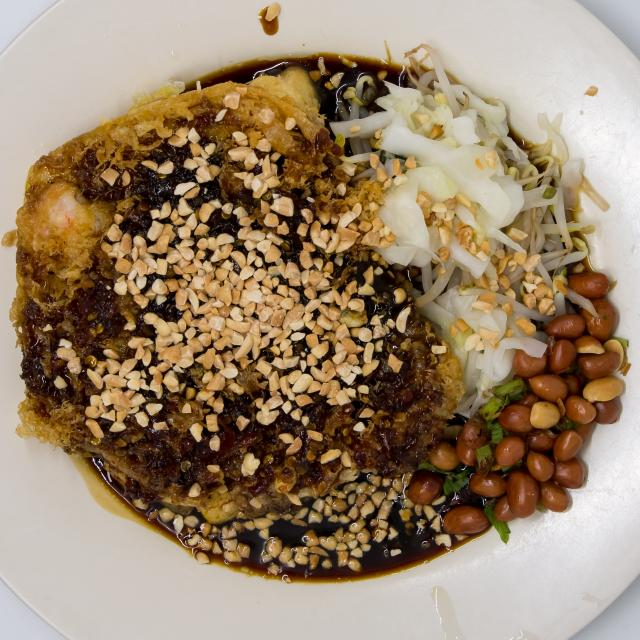Tahu-Telur: (24, 39, 600, 588)
